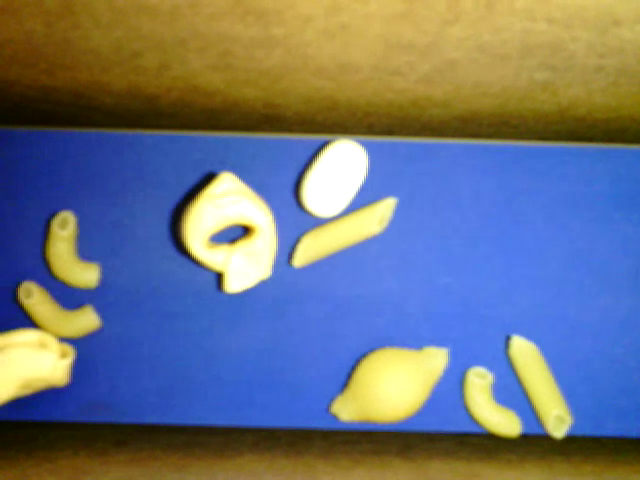elbow: (17, 280, 102, 336), (45, 211, 102, 289), (463, 366, 521, 436)
penne: (290, 196, 397, 268), (505, 334, 573, 441)
shell: (328, 346, 449, 424)
tortellini: (181, 171, 274, 292), (1, 328, 76, 404)
